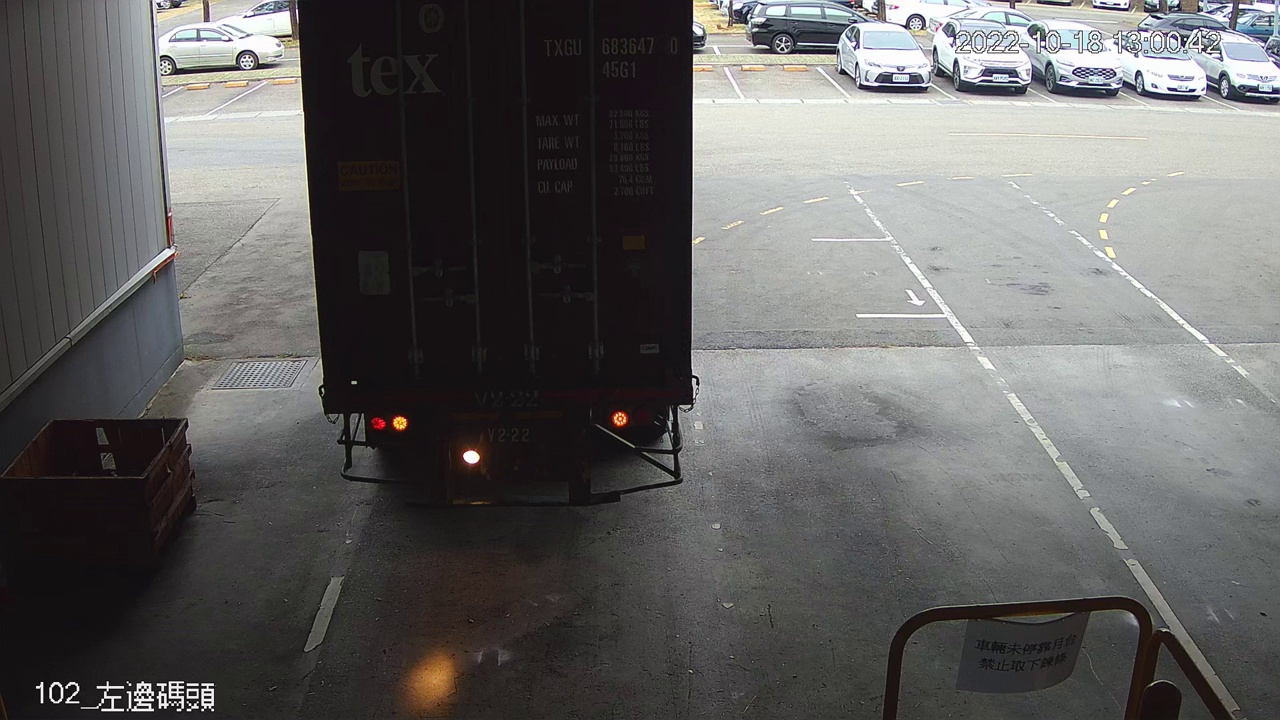container: (539, 30, 681, 84)
